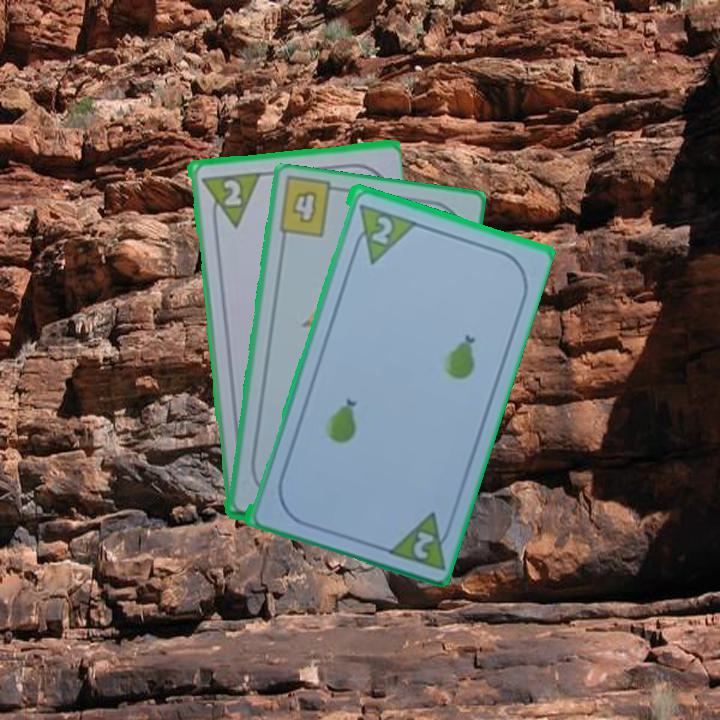2p: (367, 212, 395, 247), (409, 527, 437, 562), (219, 175, 244, 208)
4b: (288, 186, 319, 226)
